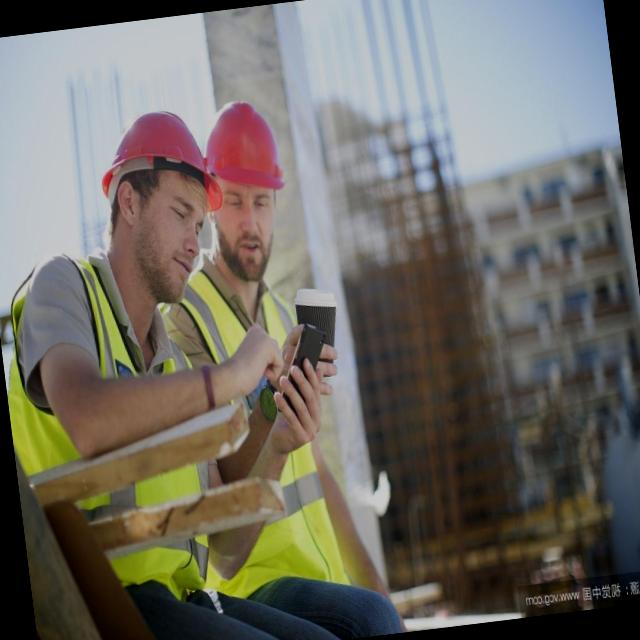helmet: (86, 102, 212, 208), (205, 98, 282, 191)
no-goggles: (112, 184, 215, 252), (213, 174, 286, 221)
vest: (0, 234, 200, 619), (210, 292, 336, 584)
